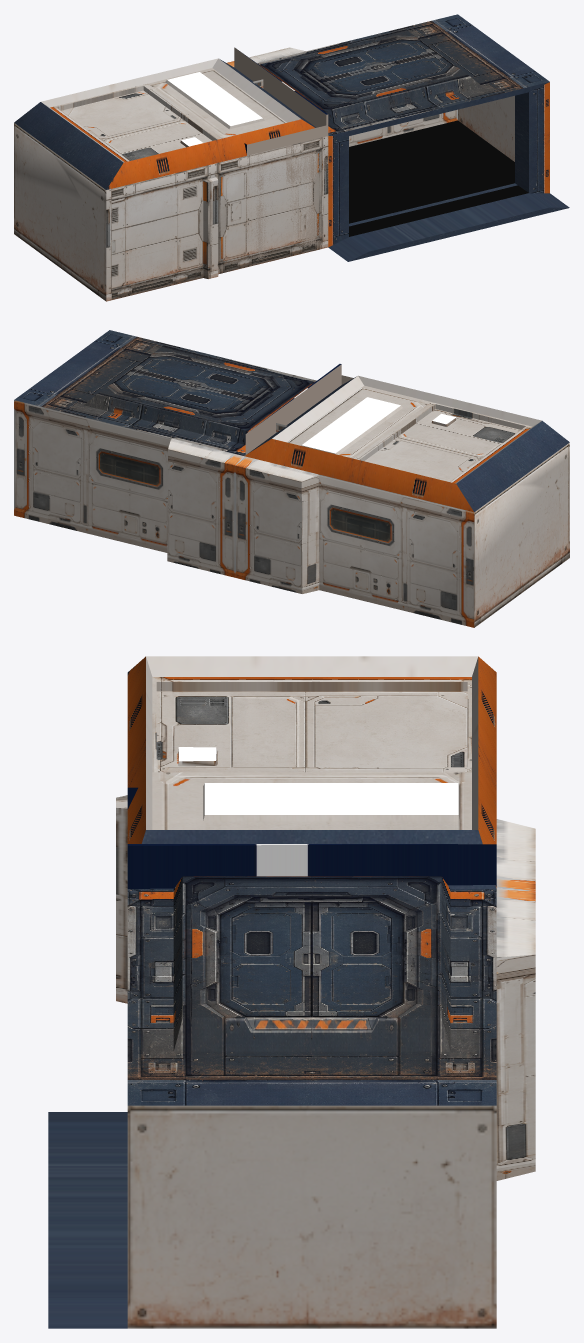
Rendered from drone_Zone.glb.
The picture shows the model from 3 angles, top to bottom: view 1: azimuth 30°, elevation 25°; view 2: azimuth 150°, elevation 25°; view 3: azimuth 270°, elevation 25°; orthographic projection. The views are drawn at different scales.
Visible parts, largest first — view 1: RoverStation, Light_01; view 2: RoverStation, Light_01; view 3: RoverStation, Light_01.
Boxes of the visible parts, <box> form: RoverStation: <box>14,14,569,301</box>; Light_01: <box>167,72,262,126</box>; RoverStation: <box>14,330,569,627</box>; Light_01: <box>302,397,400,453</box>; RoverStation: <box>48,656,535,1328</box>; Light_01: <box>204,783,458,814</box>.
Size of what is drawn, in the model's own units: 21.49 by 6.16 by 10.22.
Materials: 10 (8 with a texture image).
